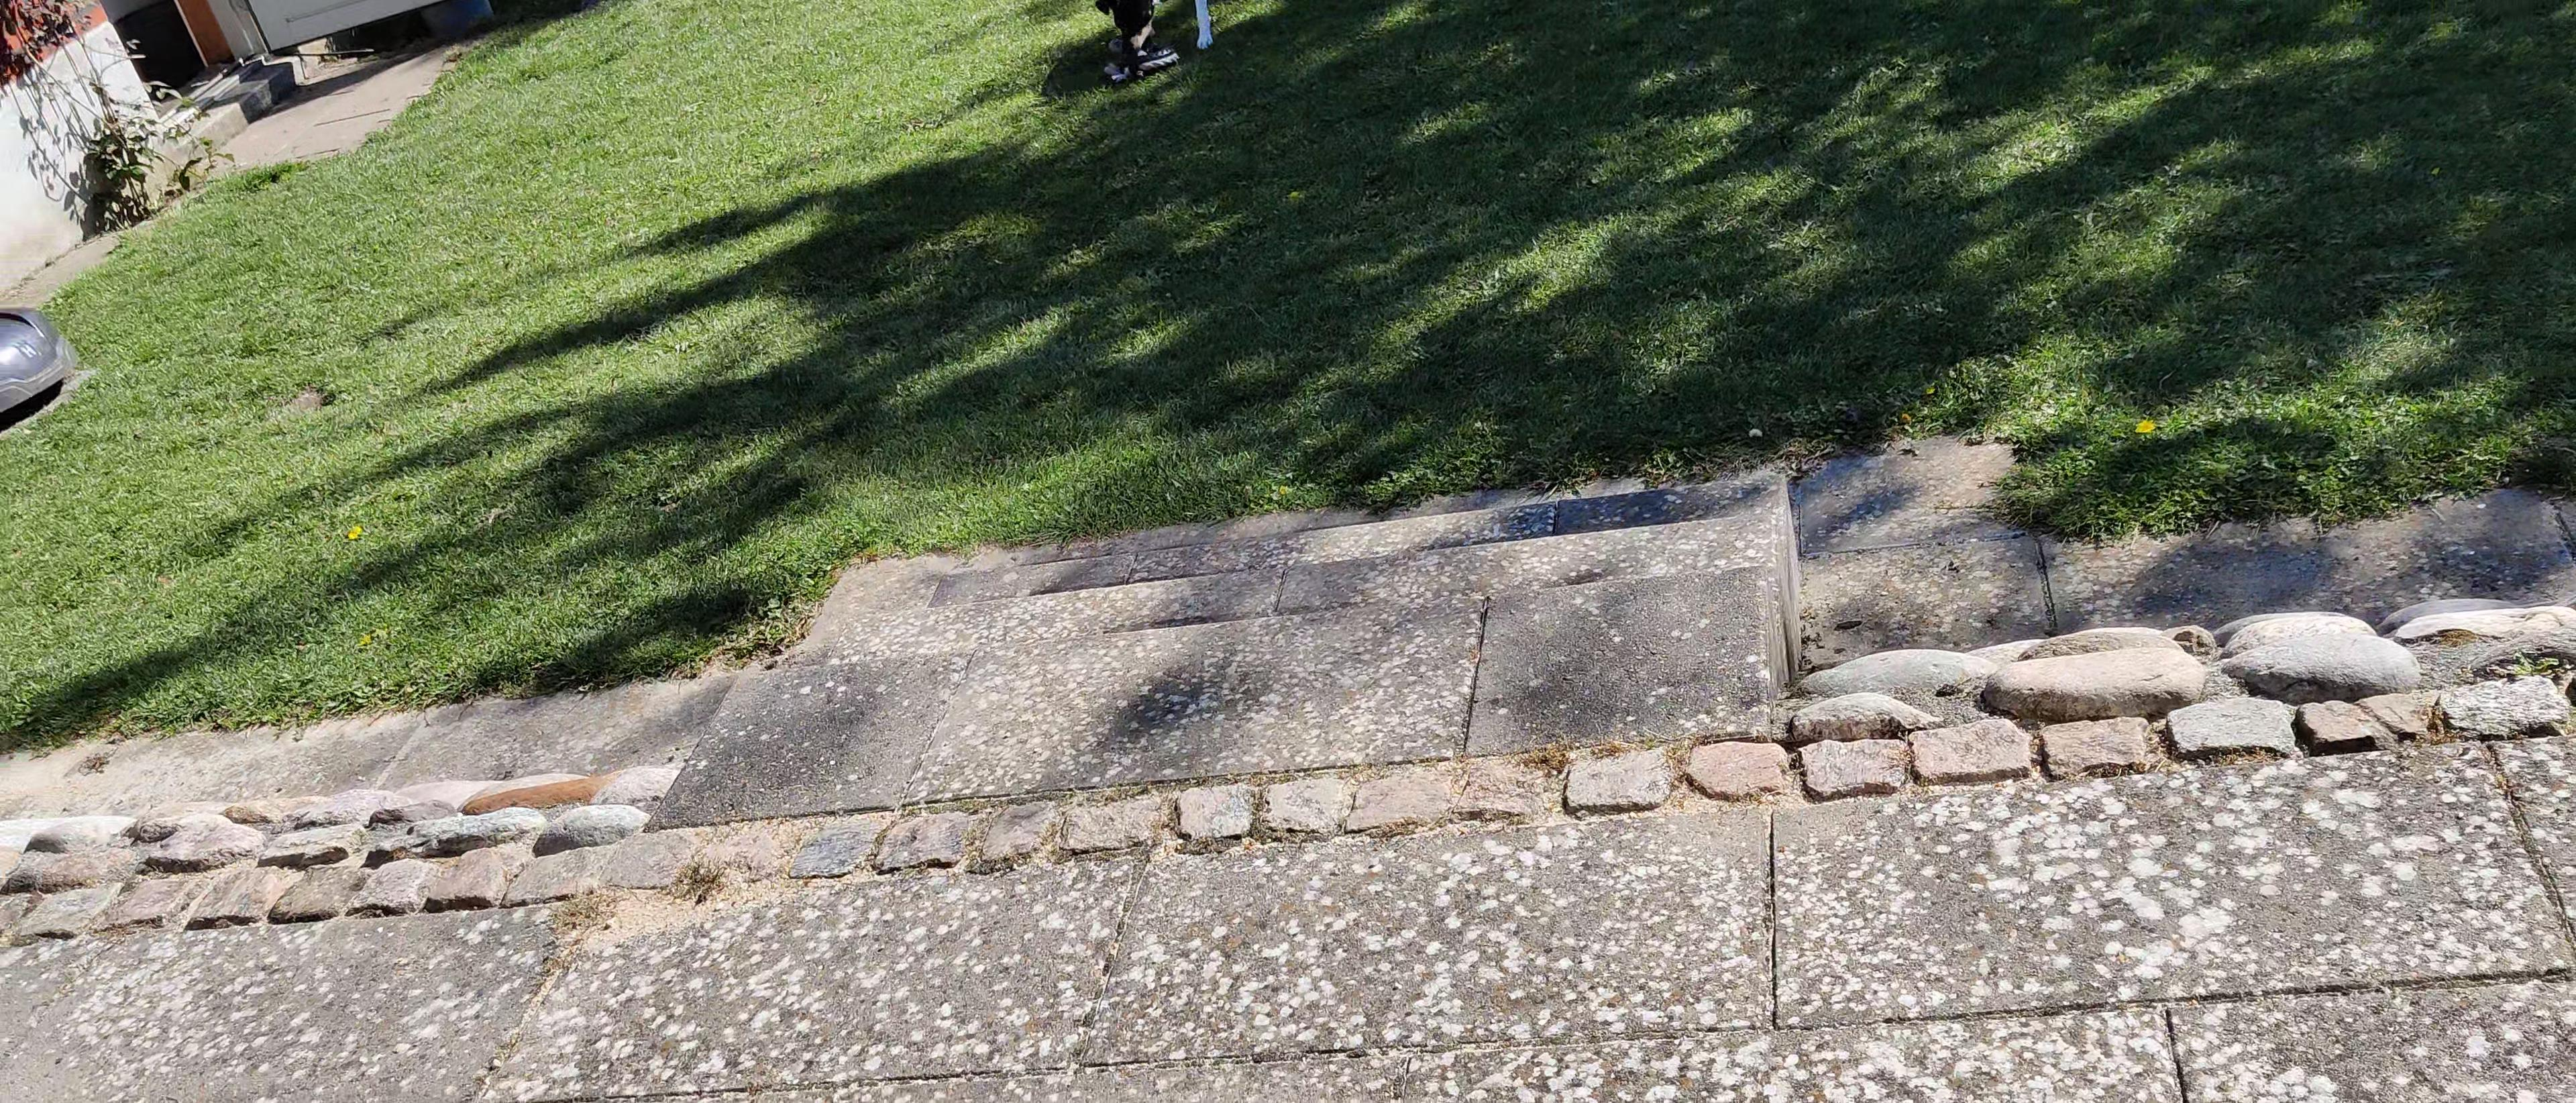Dog: (1092, 0, 1229, 69)
